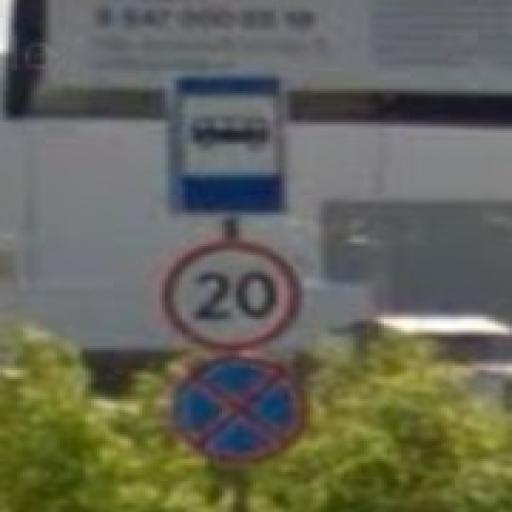traffic_sign: (172, 72, 291, 218), (163, 241, 305, 354), (166, 356, 308, 467)
